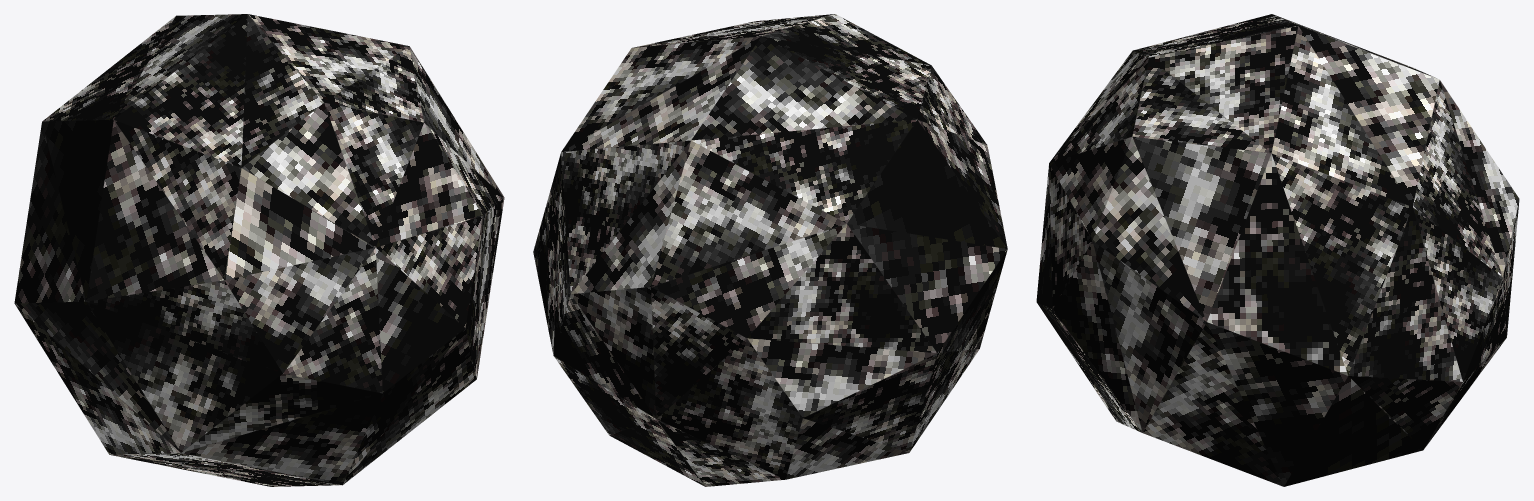
File: large_asteroid.fbx
3 views of the same model, side by side, from view 1: azimuth 30°, elevation 25°; view 2: azimuth 150°, elevation 25°; view 3: azimuth 270°, elevation 25° (orthographic). The views are drawn at different scales.
Parts seen in each view (by area): view 1: large_asteroid; view 2: large_asteroid; view 3: large_asteroid.
Part boxes in pixels (box(x1,y1,x2,y2)): large_asteroid: box(14, 14, 504, 486); large_asteroid: box(533, 14, 1007, 486); large_asteroid: box(1036, 14, 1519, 486).
Bounding box in the file's own units: 46766 × 48944 × 47798.
Materials: 1 (1 with a texture image).
